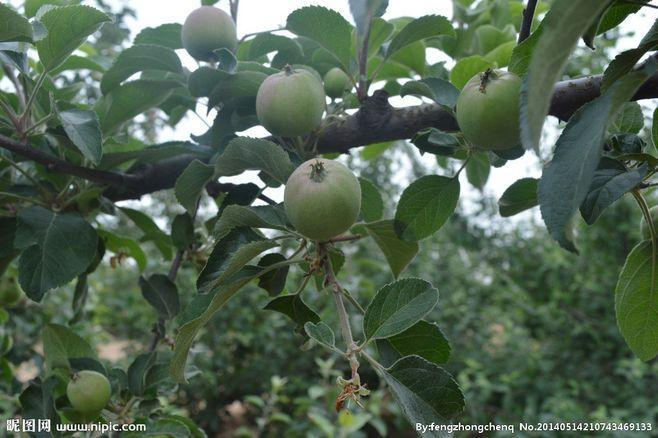apple: (284, 157, 361, 241), (457, 67, 525, 152), (255, 64, 325, 138), (180, 6, 237, 63), (65, 369, 113, 413)
